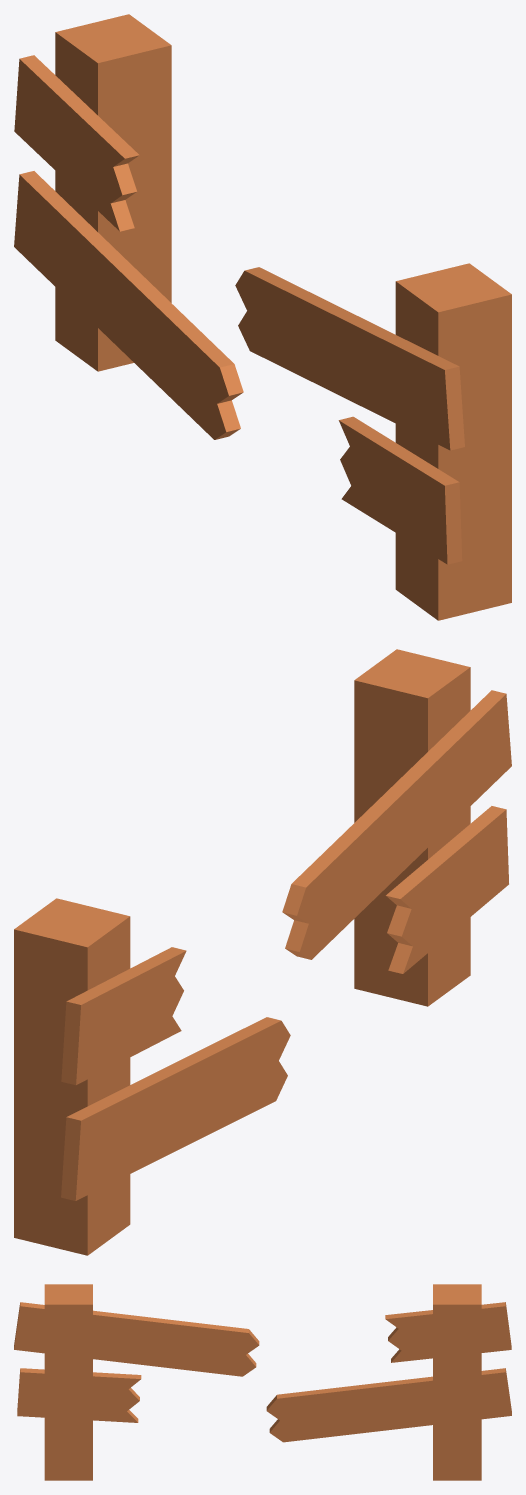
Rendered from fenceBroken.dae.
The picture shows the model from 3 angles, top to bottom: view 1: azimuth 30°, elevation 25°; view 2: azimuth 150°, elevation 25°; view 3: azimuth 270°, elevation 25°; orthographic projection. The views are drawn at different scales.
Parts seen in each view (by area): view 1: fenceBroken; view 2: fenceBroken; view 3: fenceBroken.
Boxes of the visible parts, left/top/right/bottom form: fenceBroken: left=14, top=14, right=511, bottom=620; fenceBroken: left=14, top=649, right=511, bottom=1255; fenceBroken: left=14, top=1284, right=511, bottom=1480.
Bounding box in the file's own units: 0.12 × 0.4 × 1.03.
